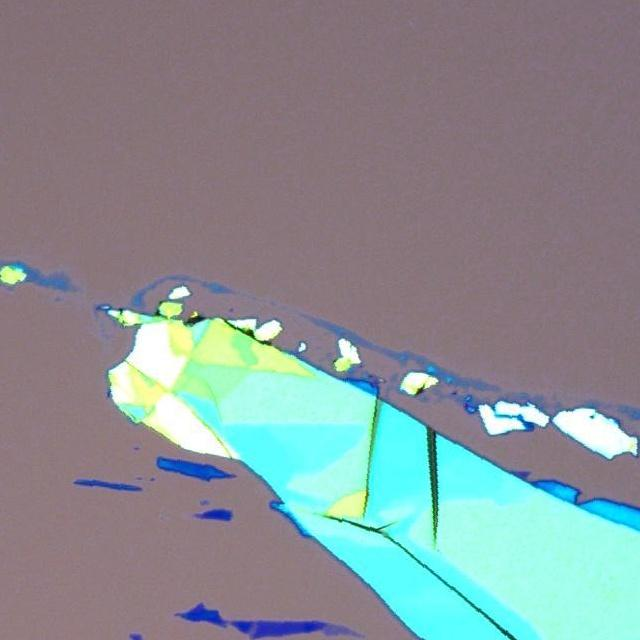monolayer-eWW4: (319, 622, 364, 640)
